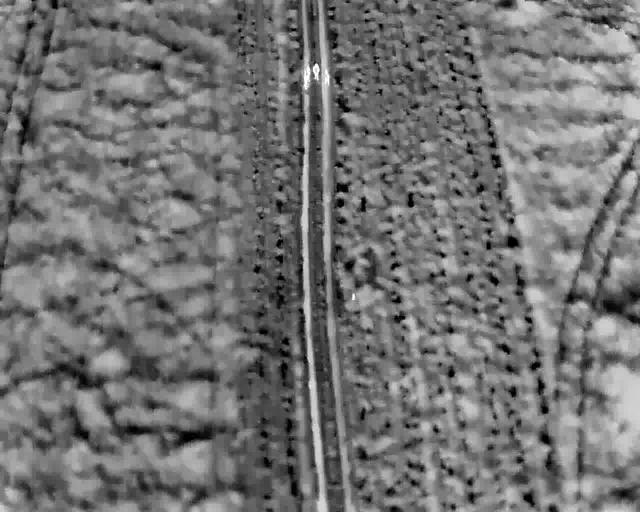person: (301, 72, 312, 91), (311, 62, 321, 81), (321, 68, 331, 86), (302, 62, 312, 79)
